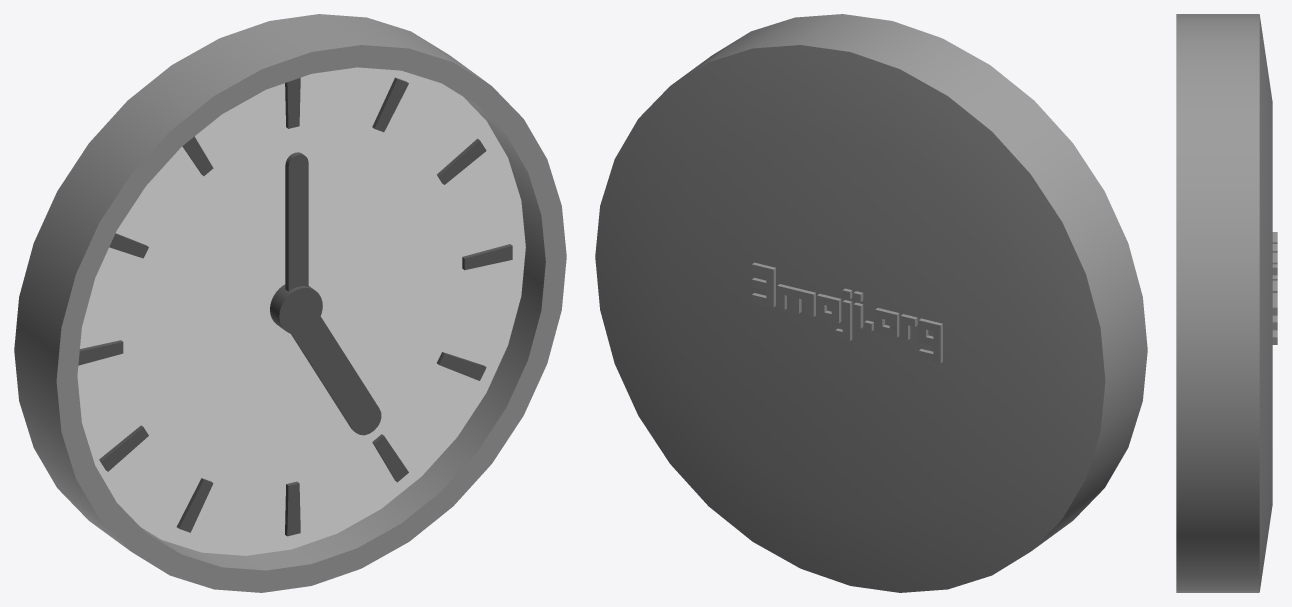
The model's file is five_oclock.fbx.
3 renders of one model, left to right at view 1: azimuth 30°, elevation 25°; view 2: azimuth 150°, elevation 25°; view 3: azimuth 270°, elevation 25°, orthographic.
Visible parts, largest first — view 1: Circle.2459; view 2: Circle.2459; view 3: Circle.2459.
Boxes of the visible parts, bbox=[...] form: Circle.2459: bbox=[14, 14, 566, 592]; Circle.2459: bbox=[595, 14, 1147, 592]; Circle.2459: bbox=[1176, 14, 1277, 592].
Bounding box in the file's own units: 233 × 233 × 40.69.
1 material, 1 textured.
